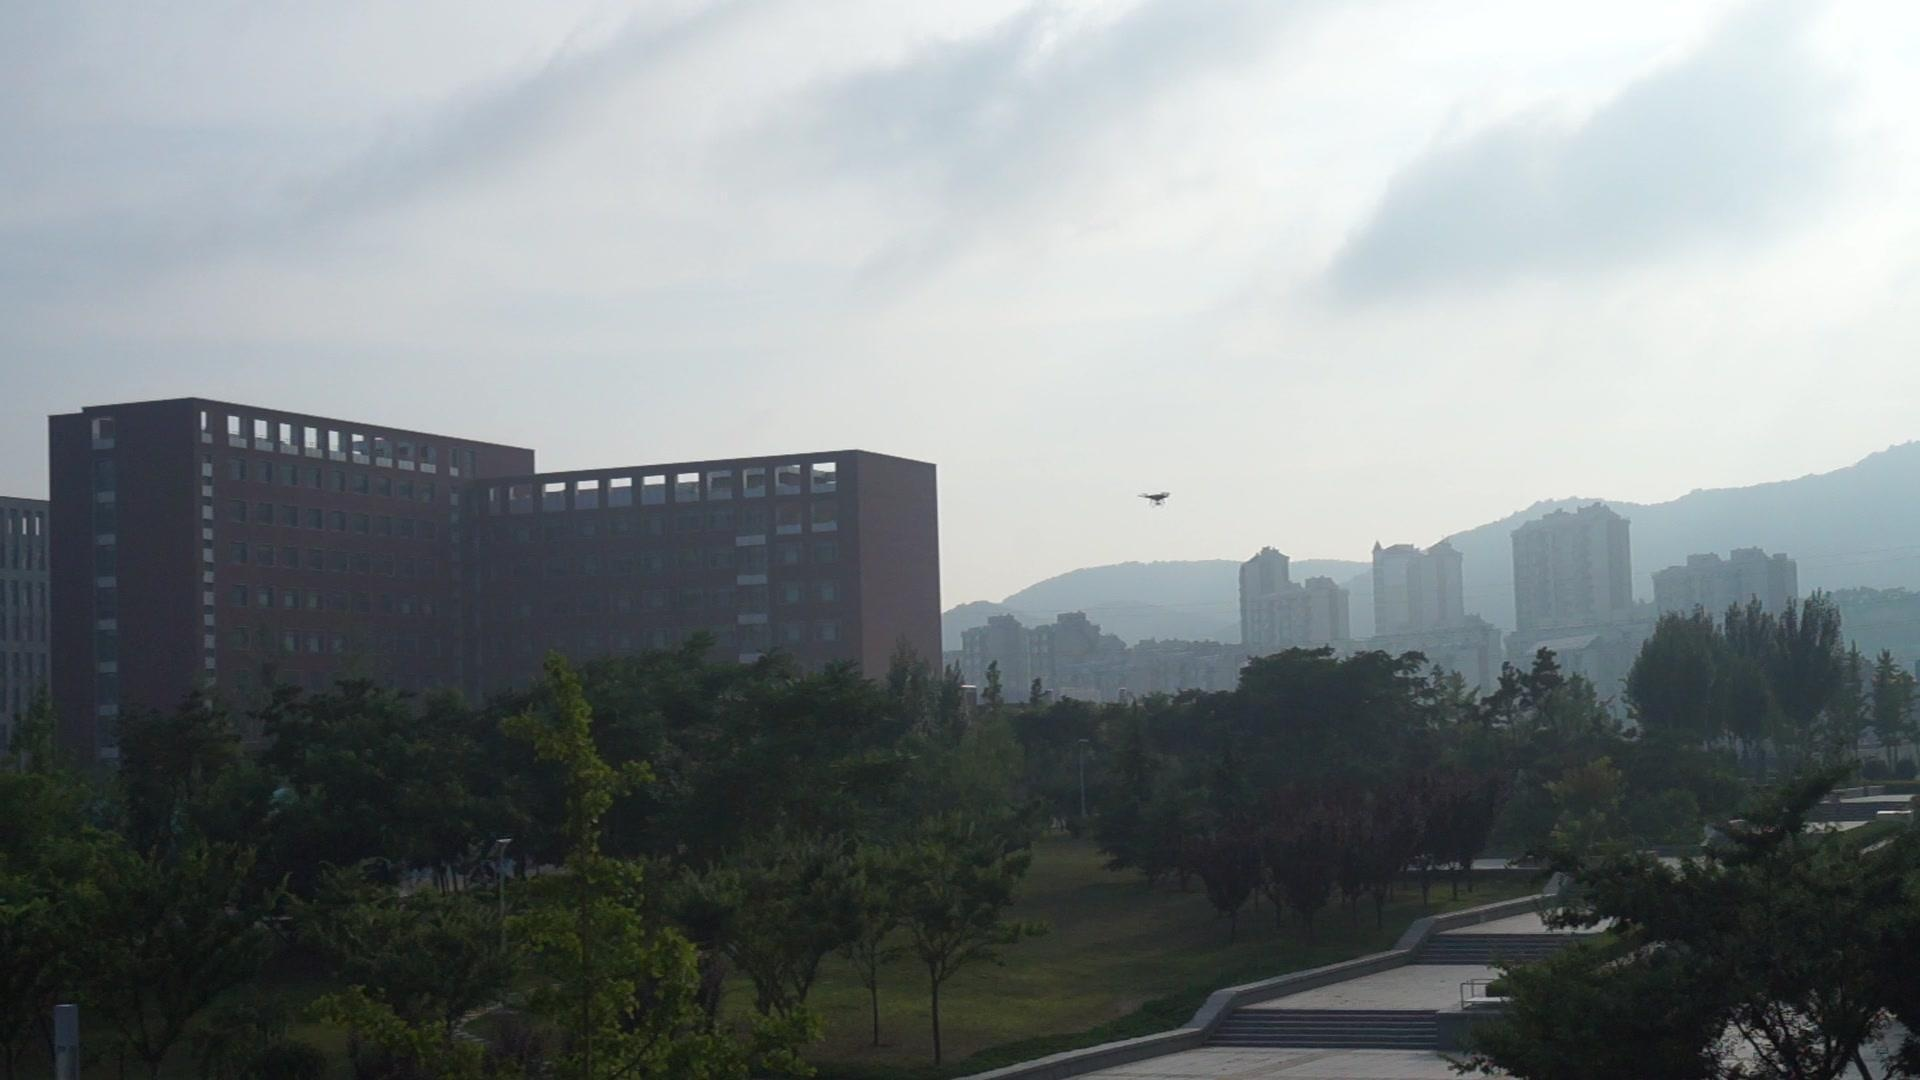UAV: (1138, 493, 1171, 508)
